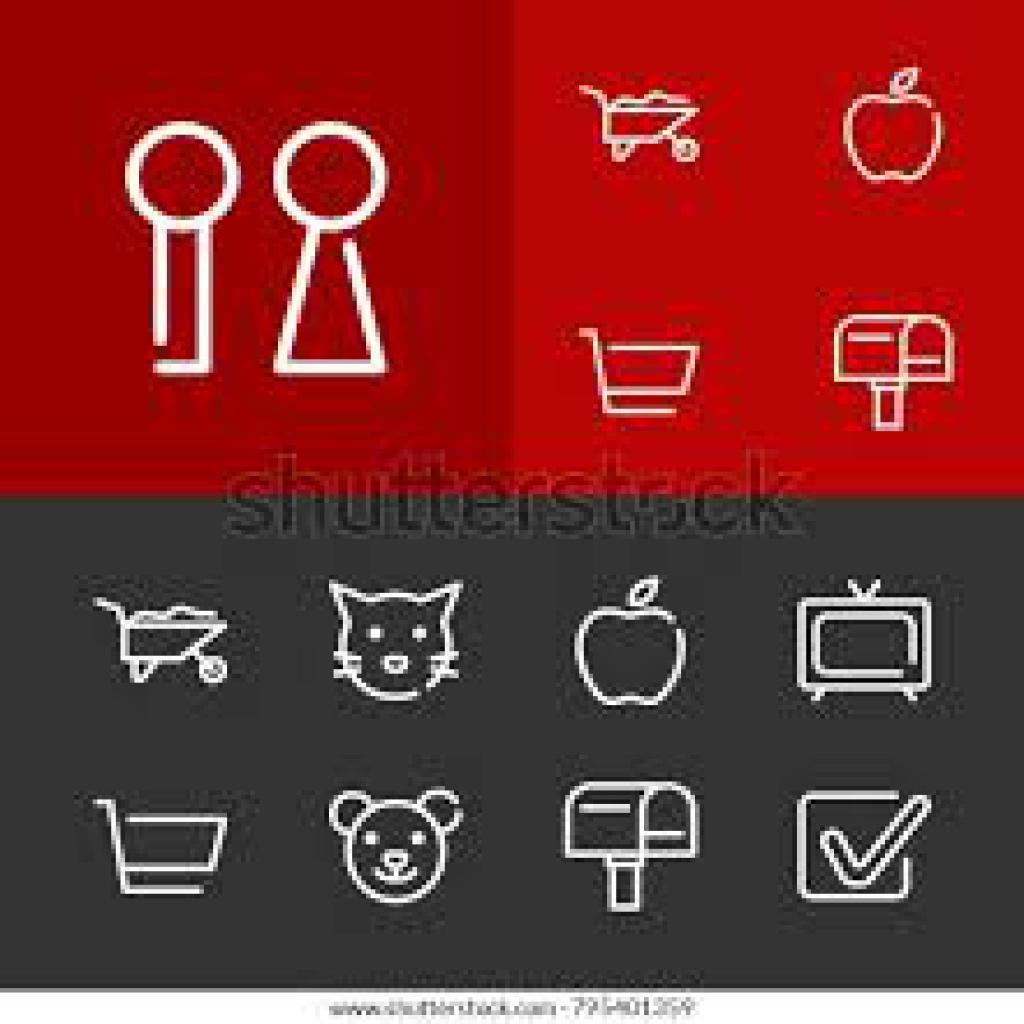checkbox: (804, 794, 914, 897)
icon: (787, 572, 944, 714), (558, 777, 708, 917), (321, 572, 470, 711), (328, 778, 468, 918), (574, 567, 697, 714), (831, 308, 960, 445), (92, 788, 232, 907), (89, 589, 232, 704), (575, 74, 712, 182), (578, 319, 706, 434), (842, 68, 952, 196)
